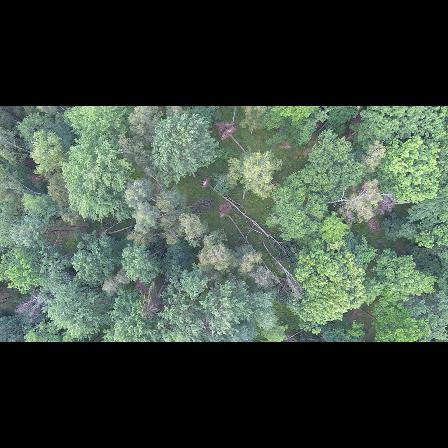Dead: (241, 208, 277, 244), (13, 290, 48, 323), (275, 265, 301, 299)
